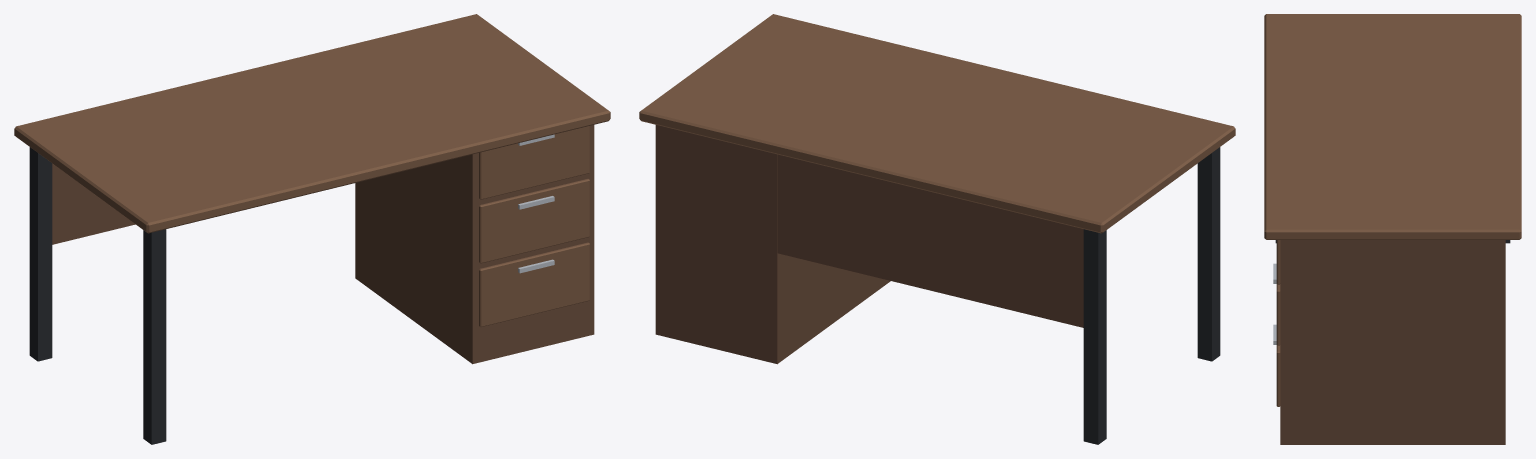
File: desk.glb
3 views of the same model, side by side, from view 1: azimuth 30°, elevation 25°; view 2: azimuth 150°, elevation 25°; view 3: azimuth 270°, elevation 25° (orthographic). The views are drawn at different scales.
Visible parts, largest first — view 1: desk; view 2: desk; view 3: desk.
Boxes of the visible parts, x1=… form: desk: x1=14, y1=14, x2=610, y2=444; desk: x1=639, y1=14, x2=1235, y2=444; desk: x1=1264, y1=14, x2=1521, y2=444.
Size of the model in its own units: 1.6 by 0.75 by 0.8.
